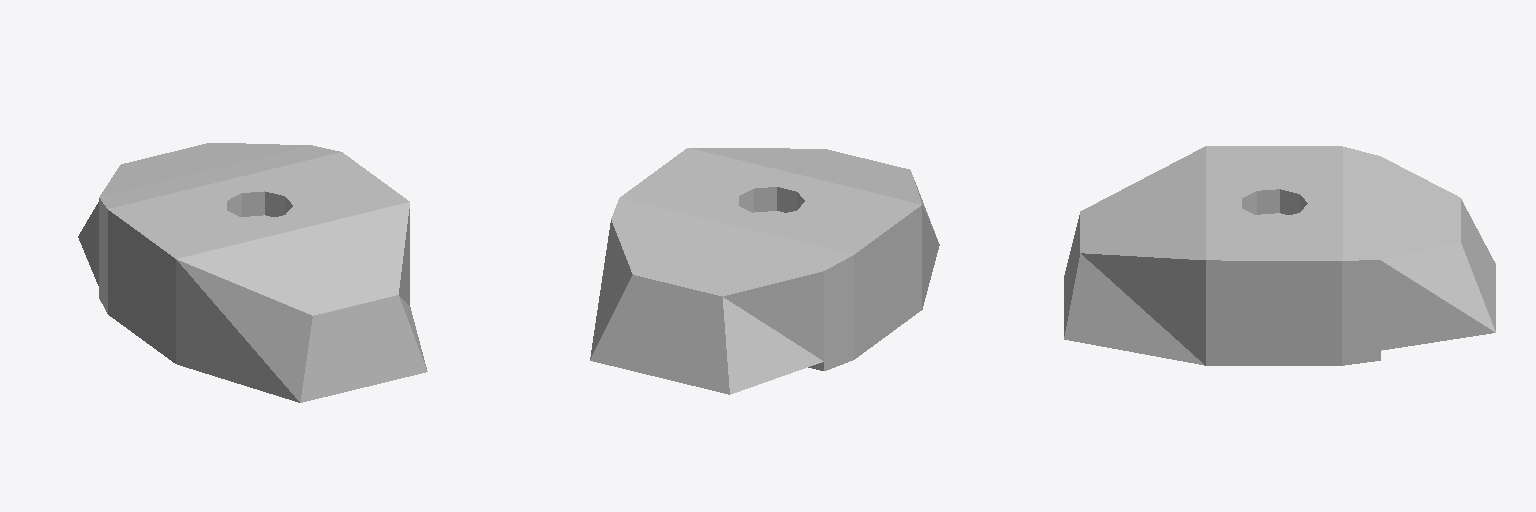
File: Panzer VI Tank Top.obj
3 renders of one model, left to right at view 1: azimuth 30°, elevation 25°; view 2: azimuth 150°, elevation 25°; view 3: azimuth 270°, elevation 25°, orthographic.
Visible parts, largest first — view 1: Cube.001; view 2: Cube.001; view 3: Cube.001.
Boxes of the visible parts, x1,y1,x2,y2 form: Cube.001: [78, 143, 427, 402]; Cube.001: [590, 148, 939, 394]; Cube.001: [1064, 146, 1495, 365].
Bounding box in the file's own units: 2.2 × 0.9455 × 3.51.